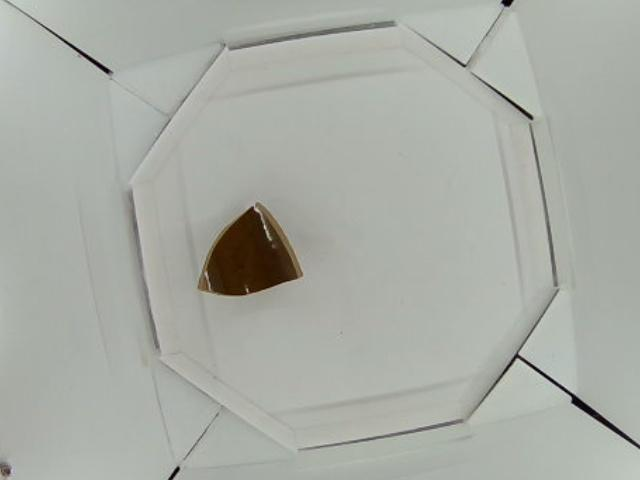China: (198, 202, 304, 299)
